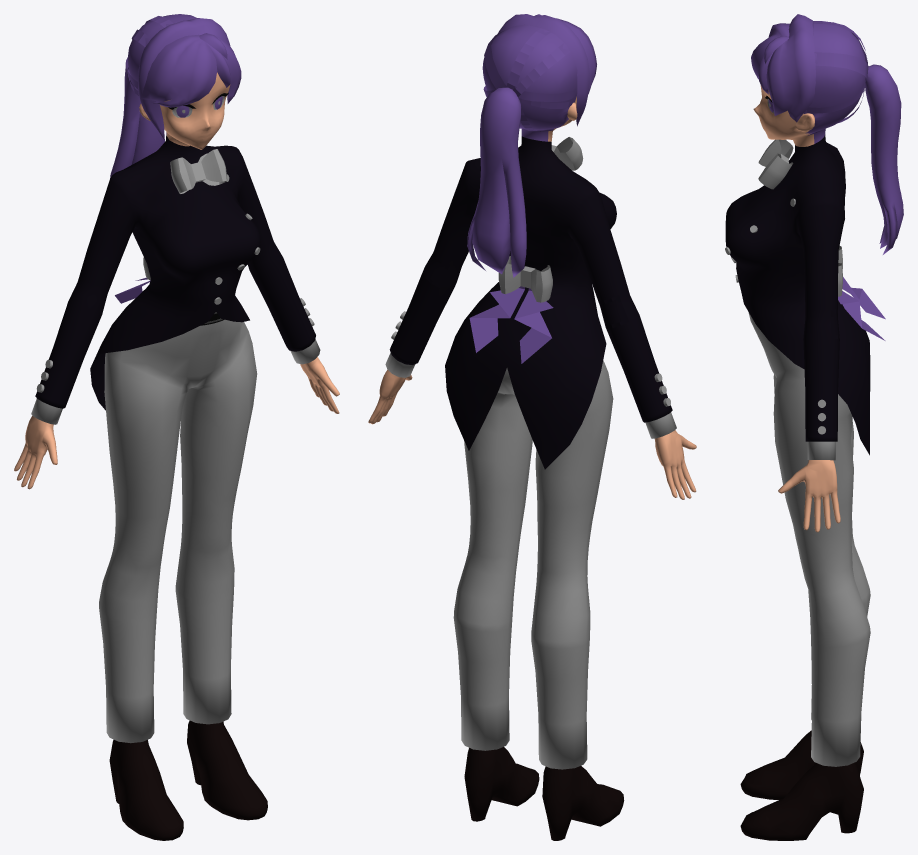
File: 20200406 maincharactermodeling.FBX
3 views of the same model, side by side, from view 1: azimuth 30°, elevation 25°; view 2: azimuth 150°, elevation 25°; view 3: azimuth 270°, elevation 25° (orthographic).
Visible parts, largest first — view 1: Object008, Object017, Object013, Object016, Cylinder001, Box016; view 2: Object017, Object008, Cylinder001, Plane004, Object016, Box017, Box024, Box029, Box016; view 3: Object017, Object008, Cylinder001, Object016, Box016, Plane004, Box028, Object013, Box021.
Boxes of the visible parts, <box> form: Object008: <box>99,319,267,840</box>; Object017: <box>14,14,339,489</box>; Object013: <box>140,34,217,107</box>; Object016: <box>138,18,241,139</box>; Cylinder001: <box>110,66,164,178</box>; Box016: <box>170,149,227,193</box>; Object017: <box>368,24,696,499</box>; Object008: <box>453,360,624,840</box>; Cylinder001: <box>467,87,526,277</box>; Plane004: <box>469,286,553,363</box>; Object016: <box>497,14,589,126</box>; Box017: <box>498,256,552,302</box>; Box024: <box>507,28,550,91</box>; Box029: <box>513,43,570,96</box>; Box016: <box>551,137,583,170</box>; Object017: <box>725,21,870,532</box>; Object008: <box>740,312,870,840</box>; Cylinder001: <box>865,64,903,254</box>; Object016: <box>766,14,815,122</box>; Box016: <box>758,139,793,189</box>; Plane004: <box>838,277,885,340</box>; Box028: <box>814,52,868,79</box>; Object013: <box>751,23,789,79</box>; Box021: <box>807,80,865,113</box>.
Bounding box in the file's own units: 135 × 326 × 66.78.
